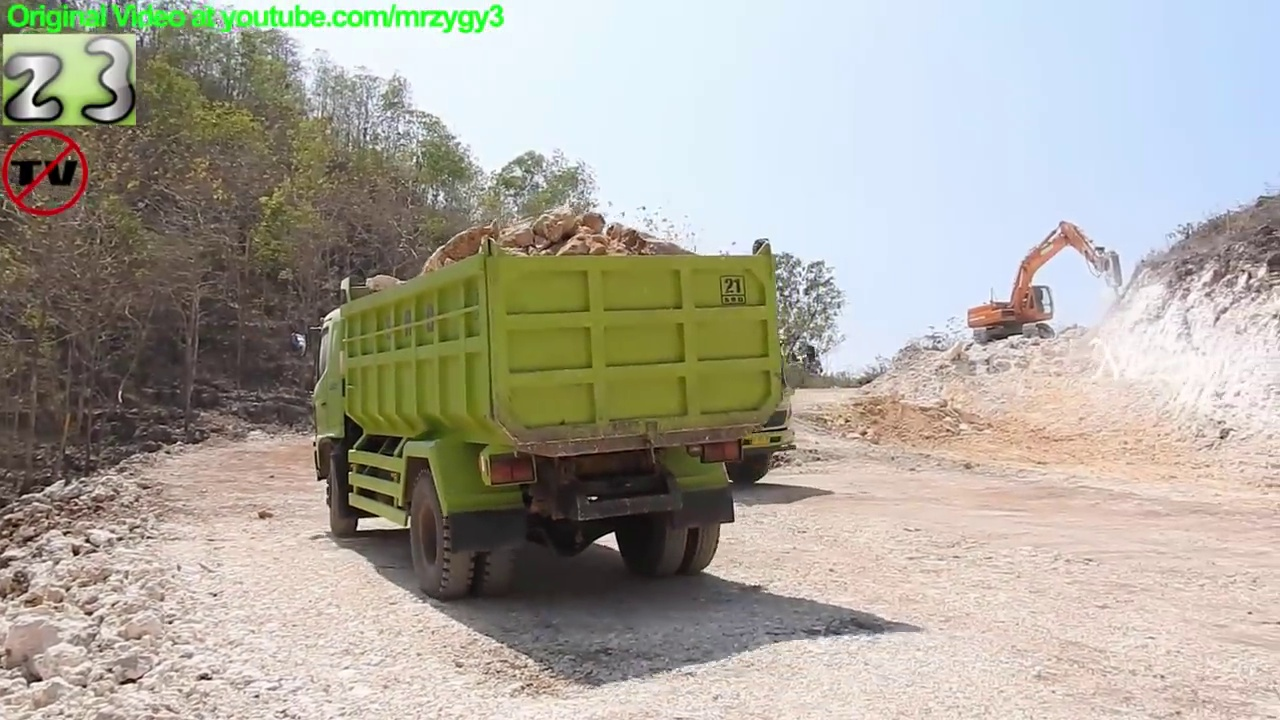truck: (285, 230, 788, 605), (477, 289, 822, 498)
